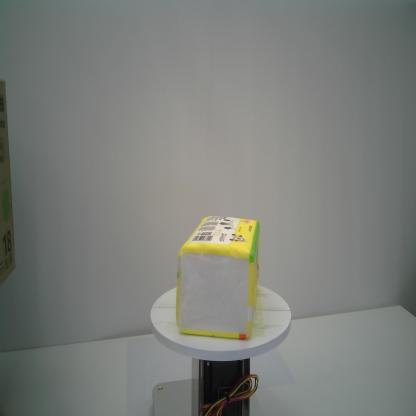Tissue: (174, 212, 262, 344)
